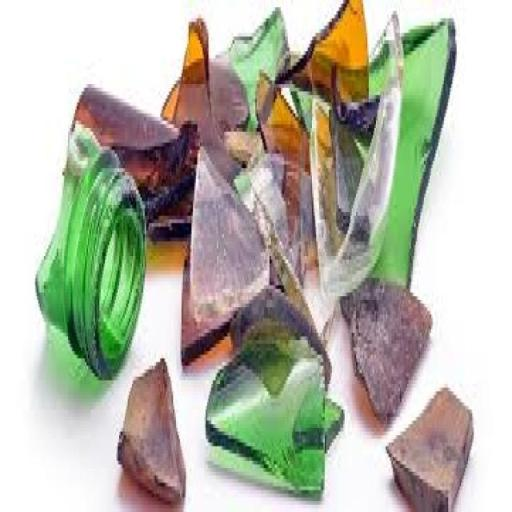glass: (24, 106, 155, 396), (310, 12, 404, 316), (206, 300, 340, 500), (79, 68, 204, 238), (187, 146, 270, 330), (112, 333, 192, 512), (342, 277, 432, 422), (162, 20, 252, 147), (388, 386, 473, 510), (218, 9, 290, 128)
